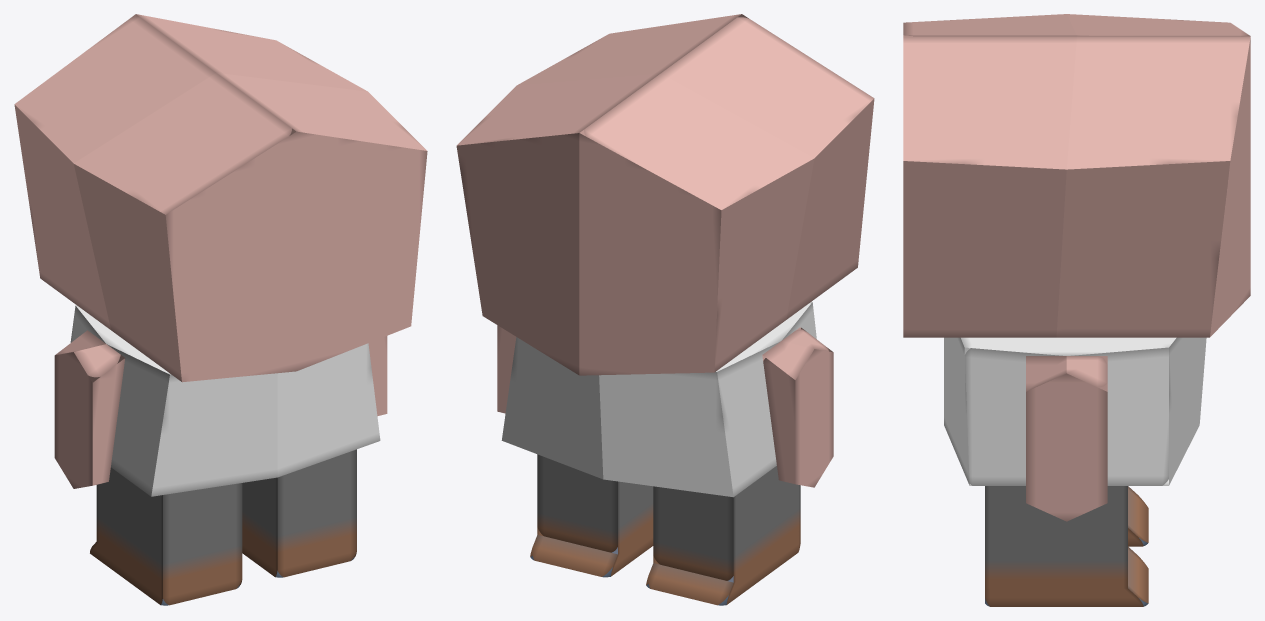
Rendered from proto_character_human.fbx.
The picture shows the model from 3 angles, left to right: view 1: azimuth 30°, elevation 25°; view 2: azimuth 150°, elevation 25°; view 3: azimuth 270°, elevation 25°; orthographic projection. The views are drawn at different scales.
Visible parts, largest first — view 1: Head, Body, L_Leg, R_Leg, L_Arm, R_Arm; view 2: Head, Body, L_Leg, R_Leg, L_Arm, R_Arm; view 3: Head, Body, R_Leg, R_Arm, L_Leg.
Part boxes in pixels (left/top/right/bottom): Head: left=14, top=14, right=427, bottom=382; Body: left=70, top=305, right=380, bottom=496; L_Leg: left=90, top=467, right=242, bottom=605; R_Leg: left=242, top=449, right=356, bottom=577; L_Arm: left=54, top=330, right=125, bottom=488; R_Arm: left=368, top=336, right=387, bottom=416; Head: left=456, top=14, right=874, bottom=375; Body: left=501, top=301, right=816, bottom=497; L_Leg: left=646, top=466, right=800, bottom=605; R_Leg: left=530, top=454, right=653, bottom=577; L_Arm: left=762, top=327, right=833, bottom=487; R_Arm: left=497, top=325, right=516, bottom=413; Head: left=903, top=14, right=1250, bottom=337; Body: left=944, top=337, right=1206, bottom=485; R_Leg: left=985, top=486, right=1148, bottom=606; R_Arm: left=1026, top=356, right=1107, bottom=521; L_Leg: left=1128, top=486, right=1148, bottom=546.
Bounding box in the file's own units: 112 × 175 × 106.
1 material, 1 textured.
